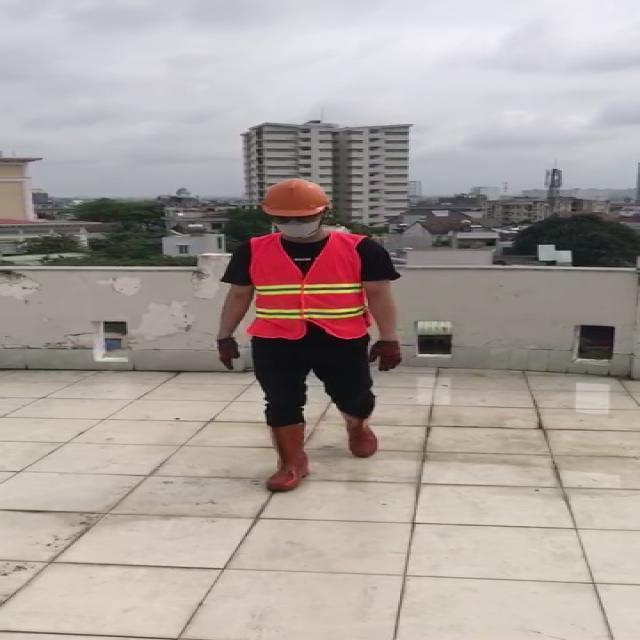helmet: (258, 174, 334, 218)
safety_vest: (249, 232, 370, 339)
